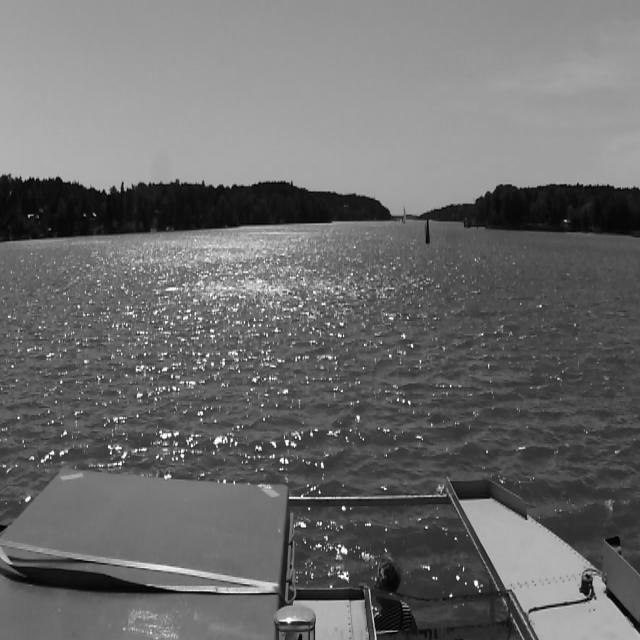buoy: (425, 214, 431, 246), (424, 222, 426, 238)
ship: (402, 204, 406, 226)
